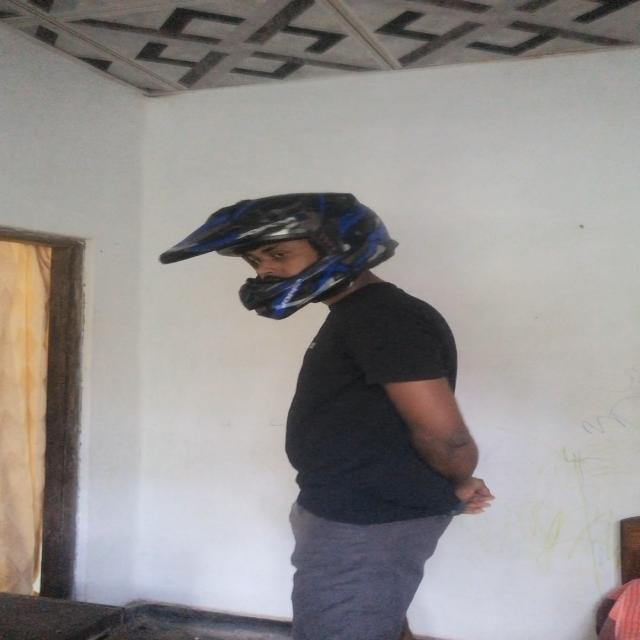Helmet_Wearer: (162, 188, 454, 314)
Person: (222, 187, 515, 640)
